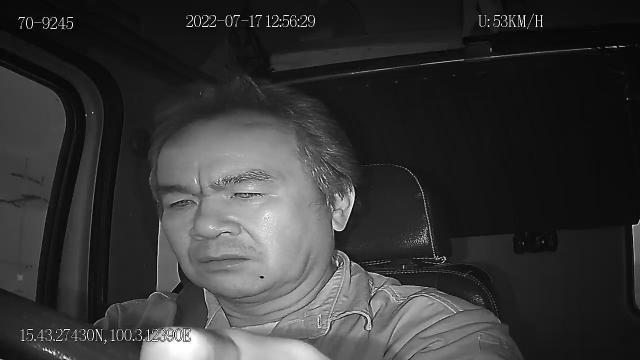SafeDriving: (221, 180, 274, 206), (157, 187, 202, 214)
Seatbelt: (172, 279, 212, 331)
